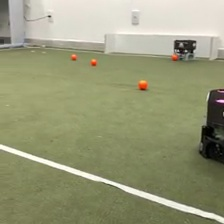ball: (137, 77, 148, 90), (171, 52, 179, 60), (90, 57, 97, 65), (70, 52, 77, 60)
goal: (103, 30, 221, 62)
robot: (197, 84, 224, 165), (173, 38, 197, 62)
